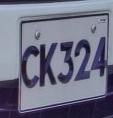2: (73, 36, 94, 86)
3: (56, 39, 77, 87)
4: (91, 28, 108, 85)
C: (18, 41, 41, 91)
K: (38, 39, 59, 92)
